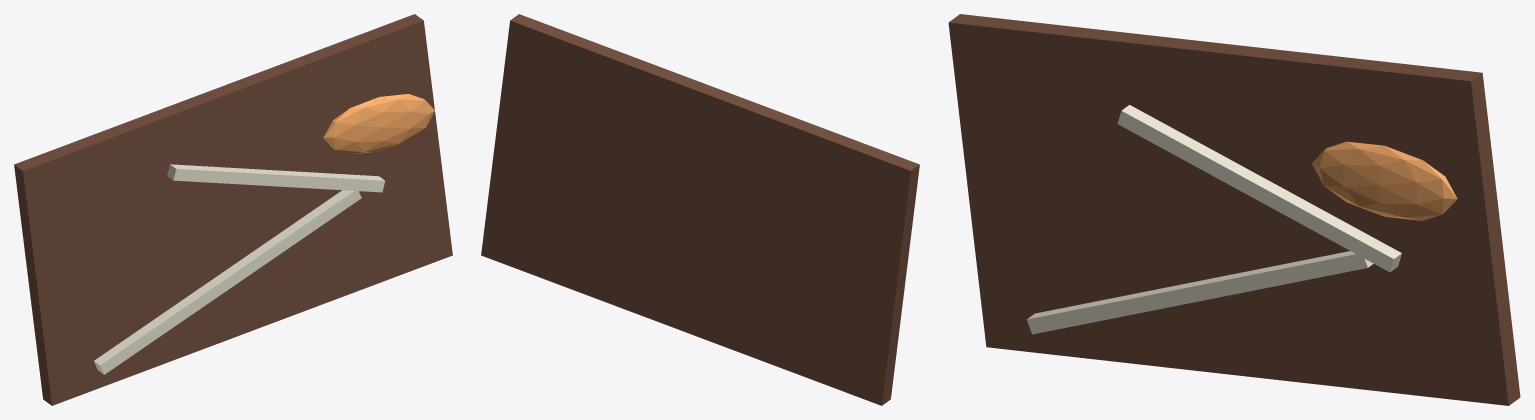
Rendered from 01_weathering_wear_overlay_1.glb.
3 views of the same model, side by side, from view 1: azimuth 30°, elevation 25°; view 2: azimuth 150°, elevation 25°; view 3: azimuth 330°, elevation 25° (orthographic). The views are drawn at different scales.
Parts seen in each view (by area): view 1: wear_plate, scratch_a, rust_or_moss_spot, scratch_b; view 2: wear_plate; view 3: wear_plate, rust_or_moss_spot, scratch_b, scratch_a.
Part boxes in pixels (x1,y1,x2,y2): wear_plate: (14, 14, 452, 405); scratch_a: (94, 190, 361, 374); rust_or_moss_spot: (323, 94, 434, 154); scratch_b: (167, 164, 385, 192); wear_plate: (481, 14, 919, 405); wear_plate: (948, 14, 1520, 405); rust_or_moss_spot: (1312, 141, 1457, 220); scratch_b: (1117, 105, 1401, 272); scratch_a: (1026, 251, 1373, 334).
Size of the model in its own units: 1.38 by 0.9063 by 0.134.
